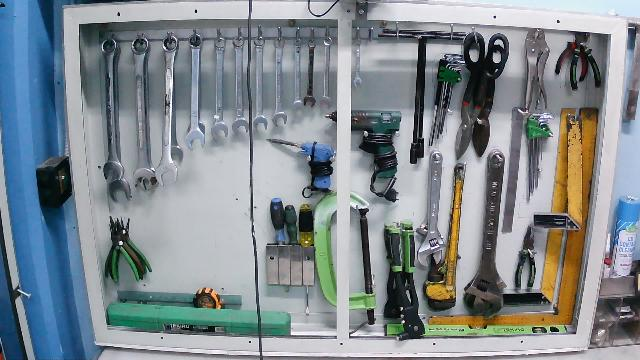tang_rivet: (387, 227, 427, 341)
